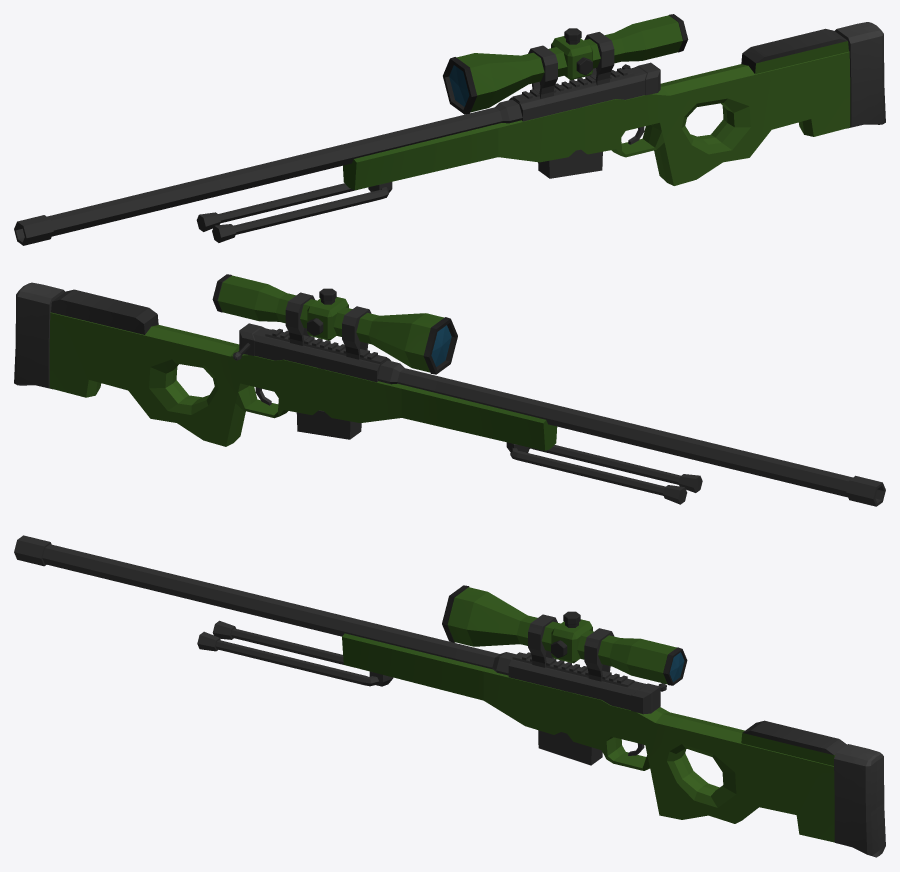
The model's file is scene_6ujvG1n72n.glb.
3 views of the same model, one above another, from view 1: azimuth 30°, elevation 25°; view 2: azimuth 150°, elevation 25°; view 3: azimuth 330°, elevation 25° (orthographic).
Parts seen in each view (by area): view 1: Cube; view 2: Cube; view 3: Cube.
Boxes of the visible parts, <box> form: Cube: <box>14,14,885,245</box>; Cube: <box>14,274,885,506</box>; Cube: <box>14,535,885,857</box>.
Size of the model in its own units: 11.43 by 2.22 by 0.8189.
Materials: 1 (1 with a texture image).
